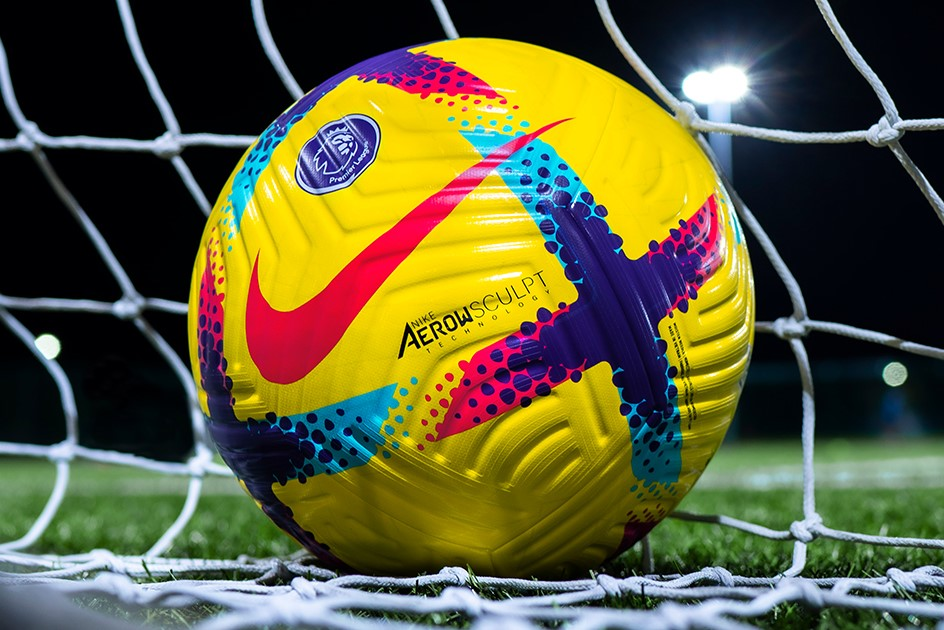sphere: (188, 38, 755, 578)
